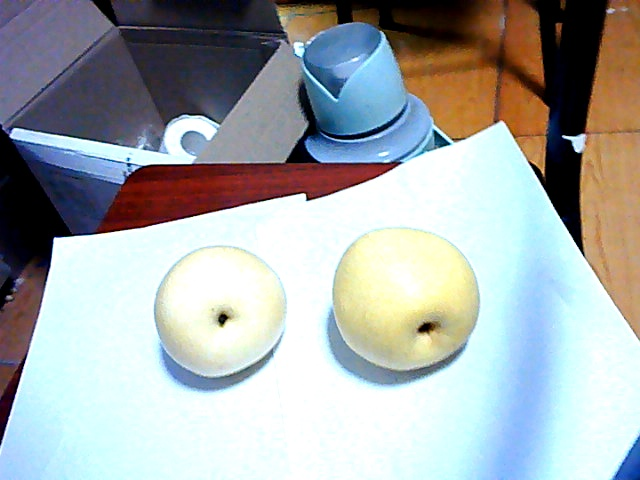pear: (331, 226, 478, 377), (153, 244, 287, 373)
